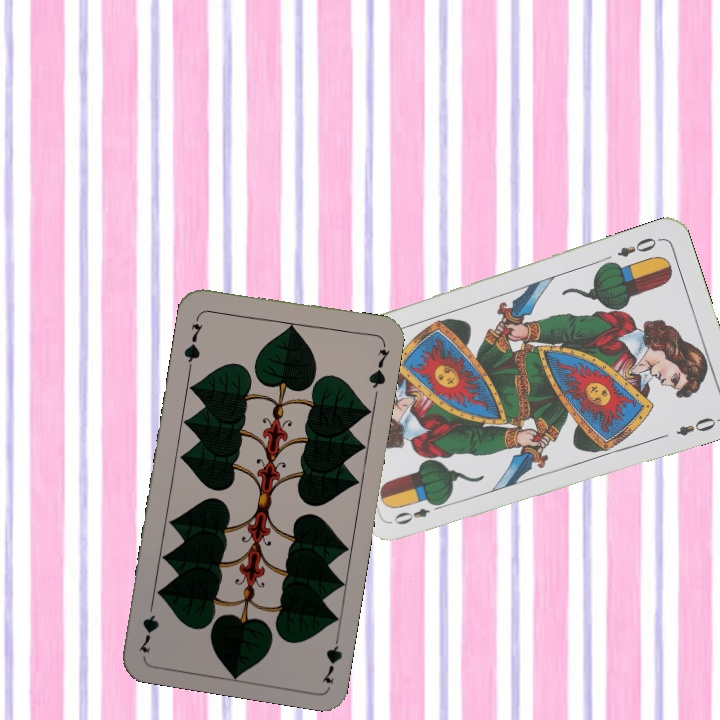EO: (389, 498, 447, 527), (613, 233, 664, 260)
G7: (179, 311, 206, 370), (318, 627, 345, 686)
